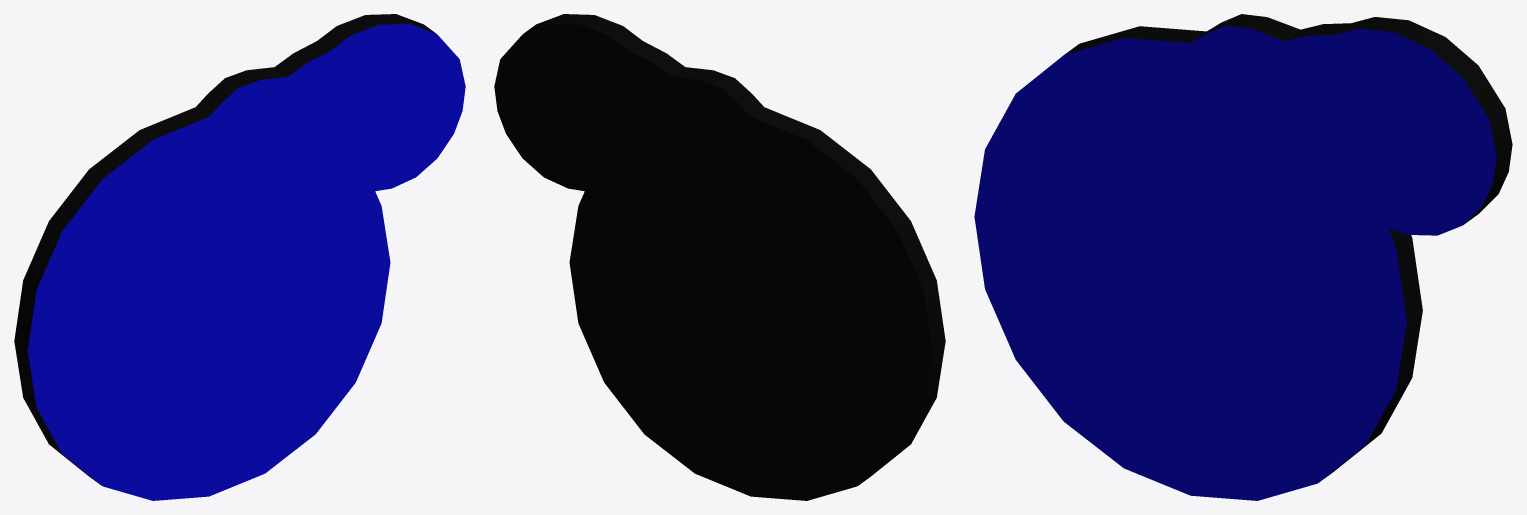
The model's file is Bomb.fbx.
The picture shows the model from 3 angles, left to right: view 1: azimuth 30°, elevation 25°; view 2: azimuth 150°, elevation 25°; view 3: azimuth 330°, elevation 25°; orthographic projection. The views are drawn at different scales.
Parts seen in each view (by area): view 1: pCylinder1; view 2: pCylinder1; view 3: pCylinder1.
Boxes of the visible parts, x1=… form: pCylinder1: x1=14, y1=14, x2=465, y2=500; pCylinder1: x1=494, y1=14, x2=945, y2=500; pCylinder1: x1=974, y1=14, x2=1512, y2=500.
Size of the model in its own units: 2.16 by 2.03 by 0.1144.
